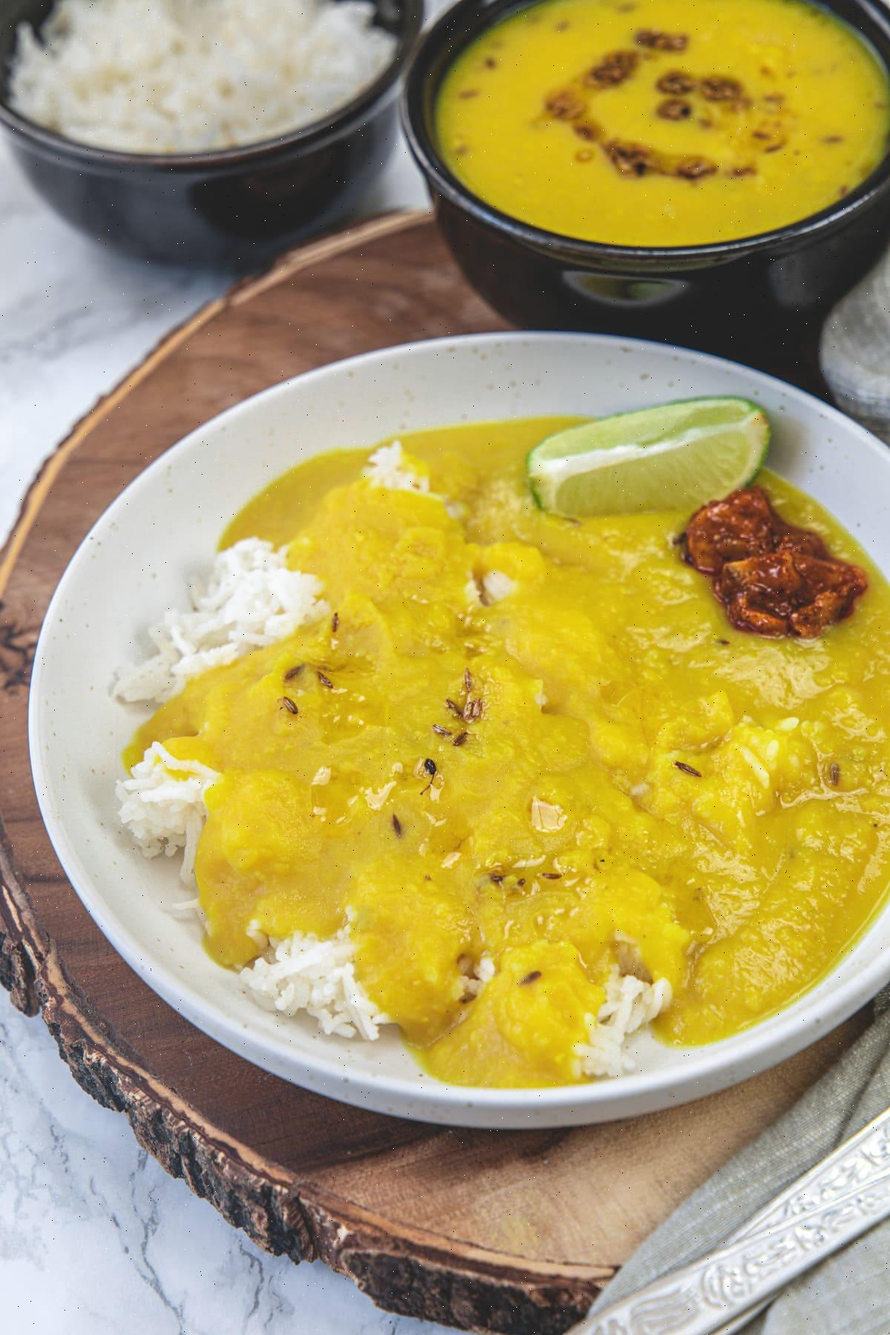rice: (198, 659, 884, 1063), (420, 0, 888, 269)
